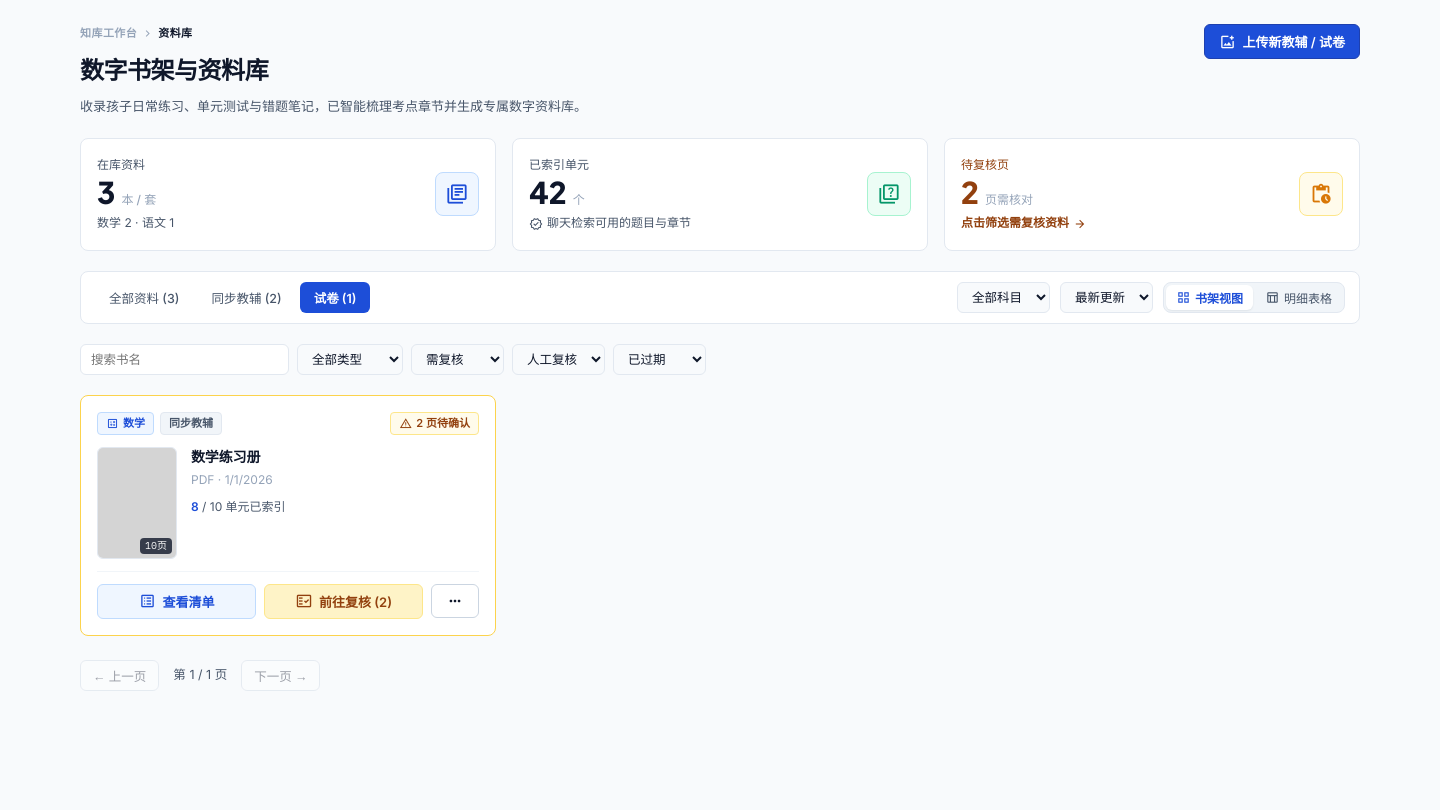
Test: LibraryView › shows card ingestion error feedback
Expected: the button "数学练习册" is shown, [191,446,479,466]
Click the button named "更多操作 数学练习册".
click(455, 601)  # box [431,584,479,618]
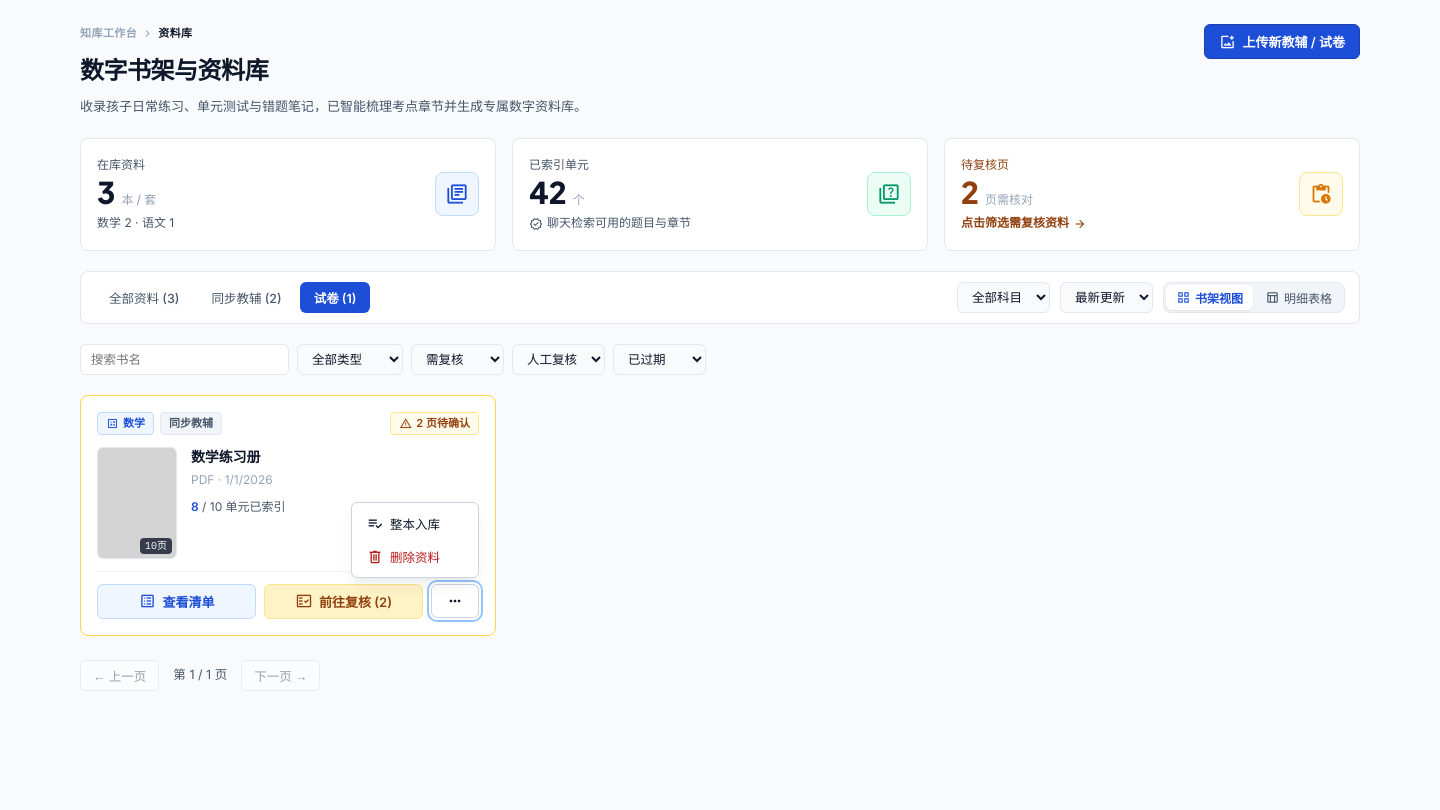
Click the button "整本入库".
click(415, 524)  # box [356,507,474,540]
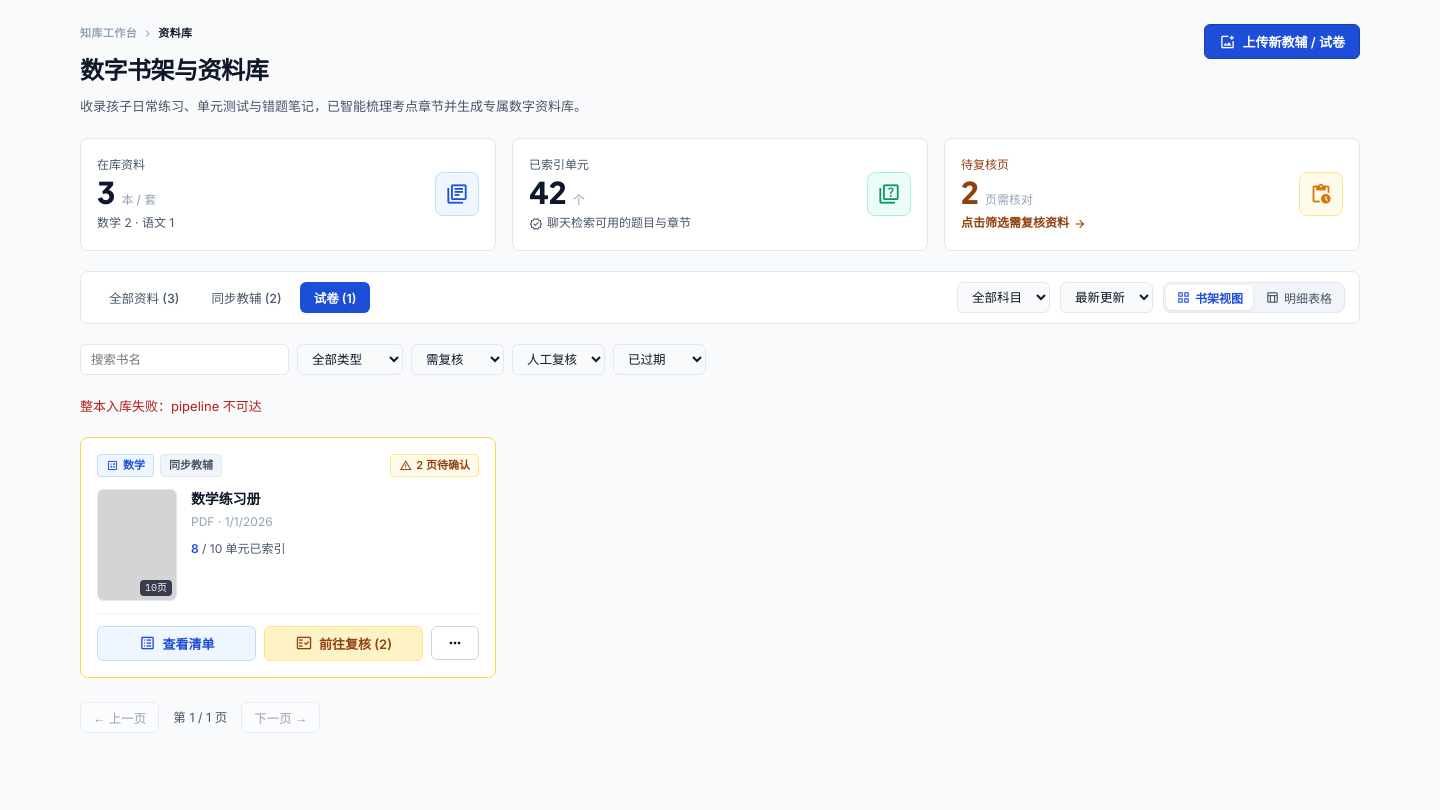
Expected: the message reads "整本入库失败：pipeline 不可达", [80,398,262,414]
